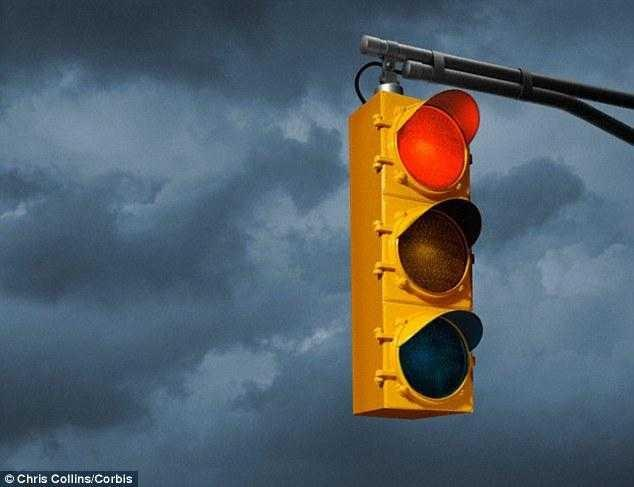red: (370, 70, 486, 415), (373, 89, 478, 194)
